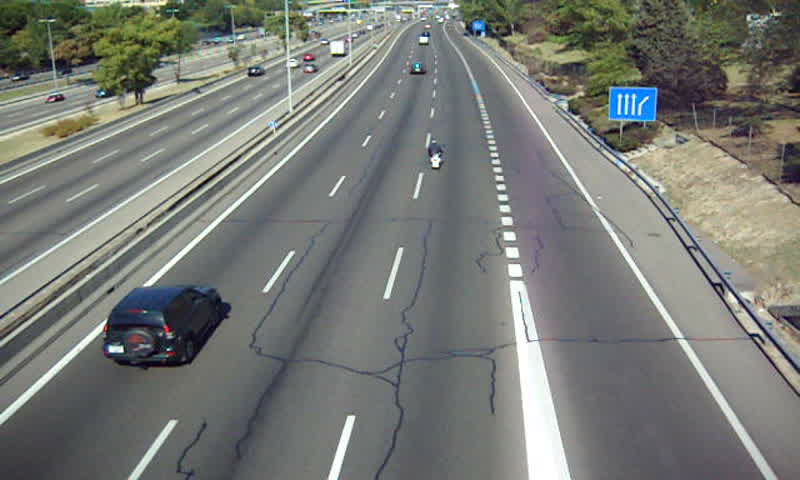car: (102, 284, 224, 365), (408, 62, 427, 76)
motorcycle: (426, 141, 442, 172)
